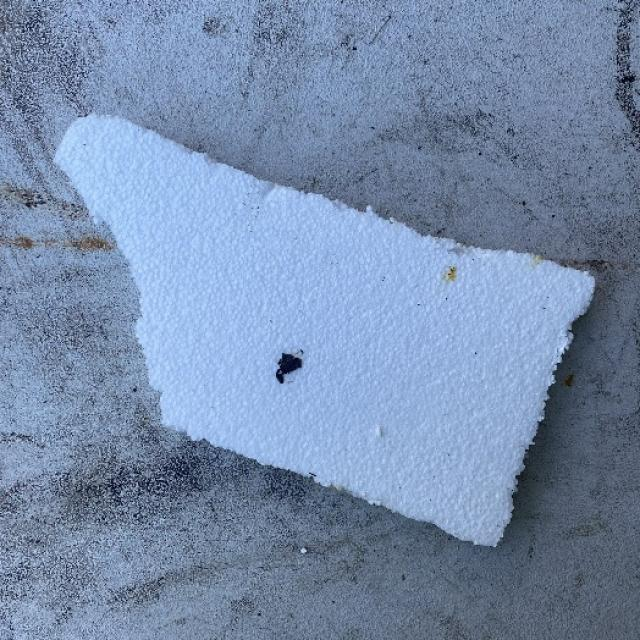styrofoam: (51, 111, 596, 547)
